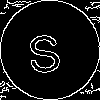S: (25, 25, 63, 74)
